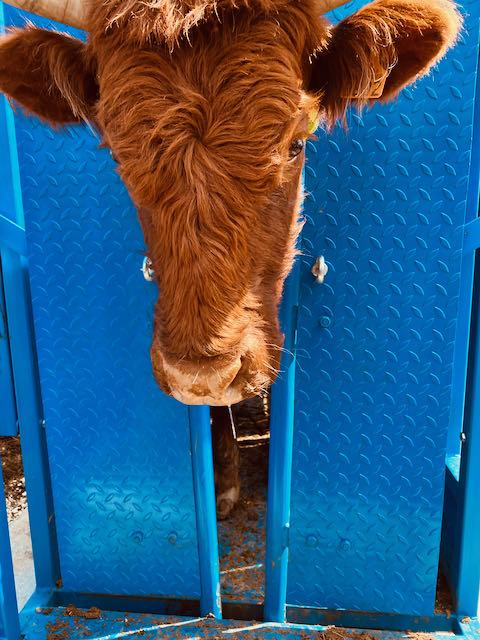muzzles: (139, 345, 277, 420)
